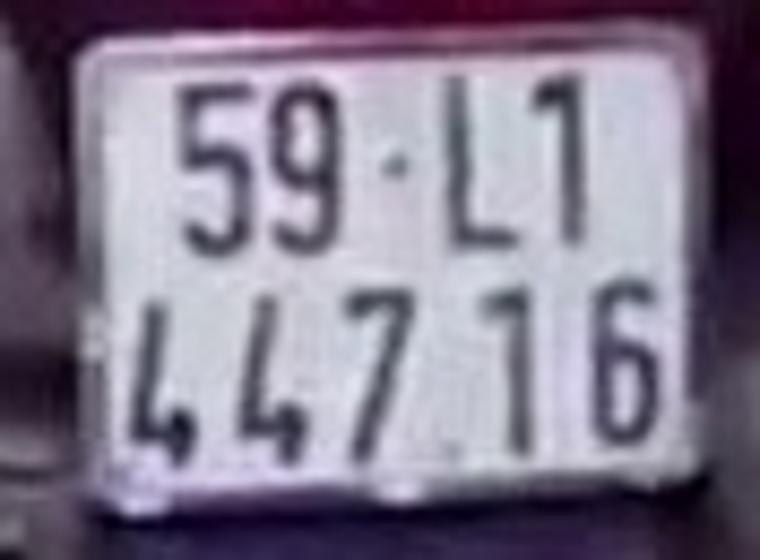-: (377, 151, 415, 181)
.: (435, 438, 469, 468)
1: (526, 67, 600, 252), (471, 282, 546, 464)
4: (121, 291, 208, 475), (230, 291, 316, 471)
5: (169, 78, 255, 259)
6: (576, 270, 669, 456)
7: (333, 289, 422, 469)
9: (267, 76, 343, 260)
L: (431, 67, 521, 253)
